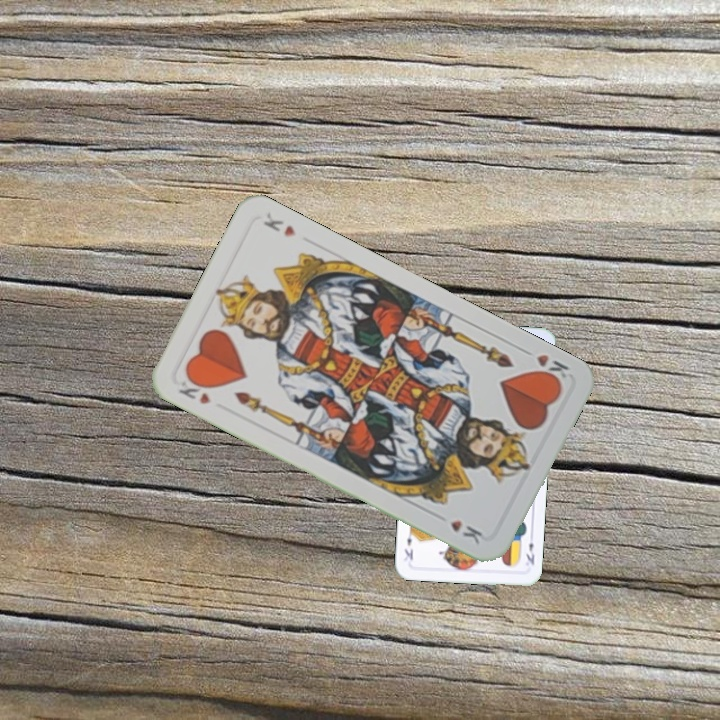EK: (522, 538, 537, 567)
HK: (517, 344, 572, 387), (174, 372, 214, 407)
